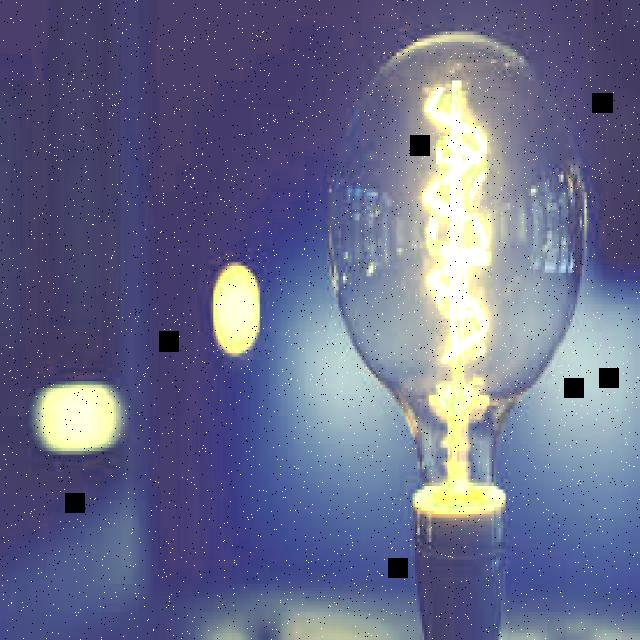light_bulb: (316, 0, 592, 572)
